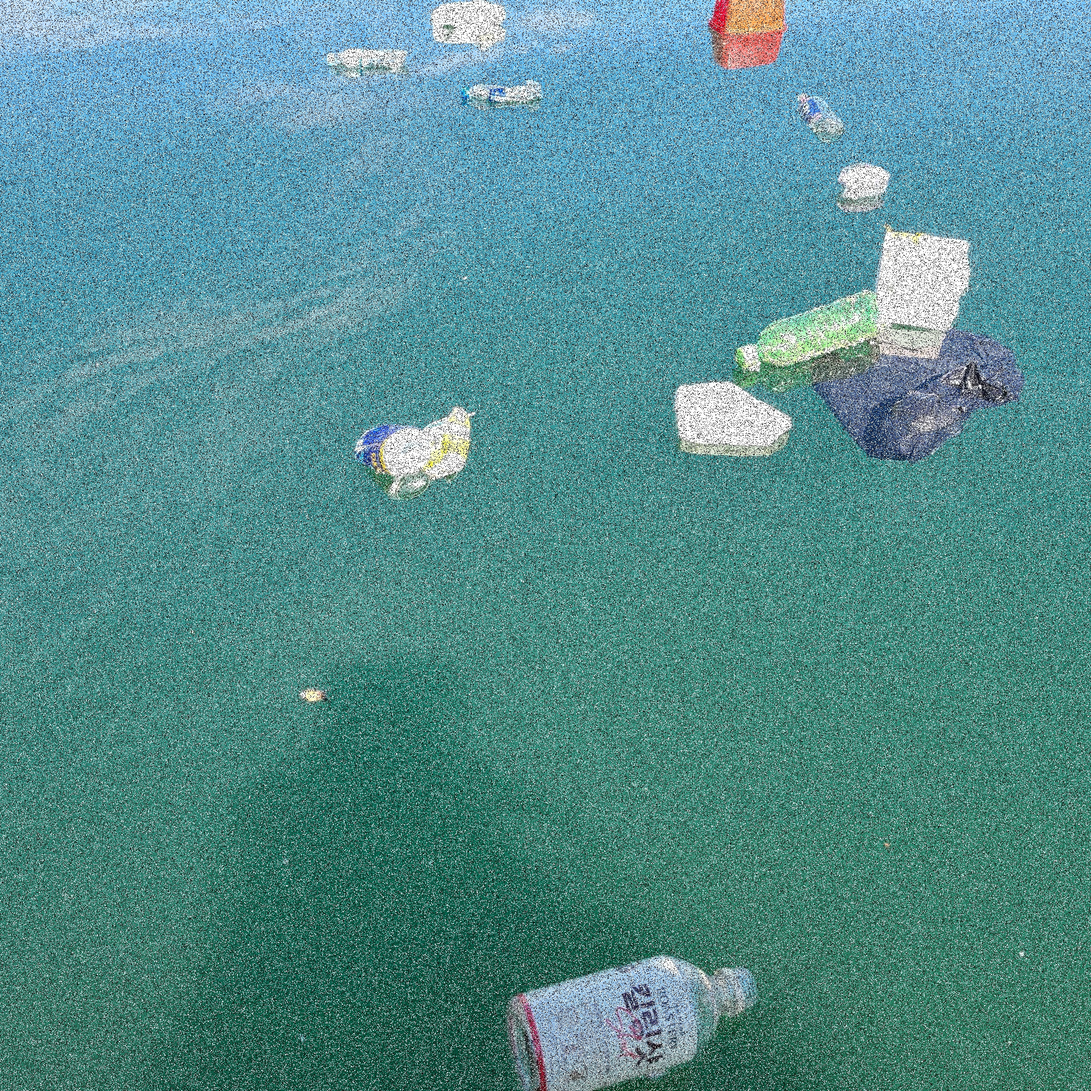sampah_terapung: (505, 955, 759, 1091), (735, 292, 885, 369), (875, 233, 971, 332), (673, 382, 793, 457), (355, 425, 430, 477), (708, 1, 788, 36), (797, 94, 844, 143), (462, 80, 545, 105), (431, 1, 507, 27), (838, 163, 890, 200), (327, 49, 409, 69)
